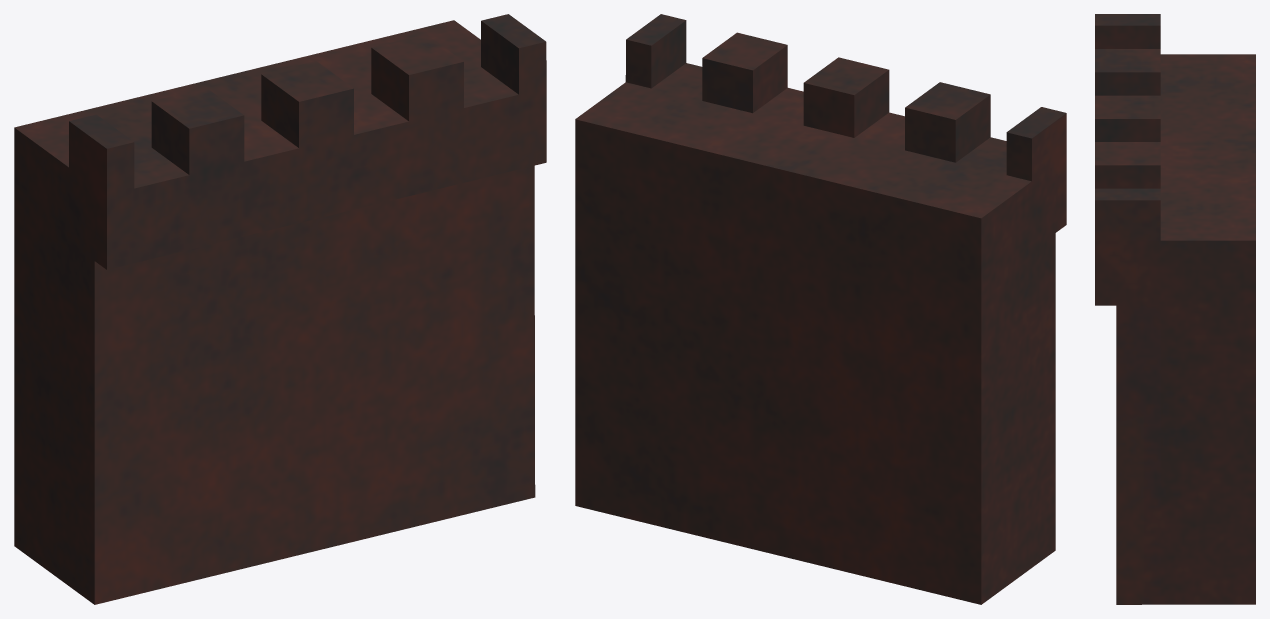
The model's file is wall.gltf.
3 renders of one model, left to right at view 1: azimuth 30°, elevation 25°; view 2: azimuth 150°, elevation 25°; view 3: azimuth 270°, elevation 25°, orthographic. The views are drawn at different scales.
Visible parts, largest first — view 1: Wall_Cube.039; view 2: Wall_Cube.039; view 3: Wall_Cube.039.
Boxes of the visible parts, x1=… form: Wall_Cube.039: x1=14, y1=14, x2=546, y2=604; Wall_Cube.039: x1=575, y1=14, x2=1066, y2=604; Wall_Cube.039: x1=1095, y1=14, x2=1255, y2=604.
Size of the model in its own units: 1.54 by 1.55 by 0.5592.
1 material, 1 textured.
